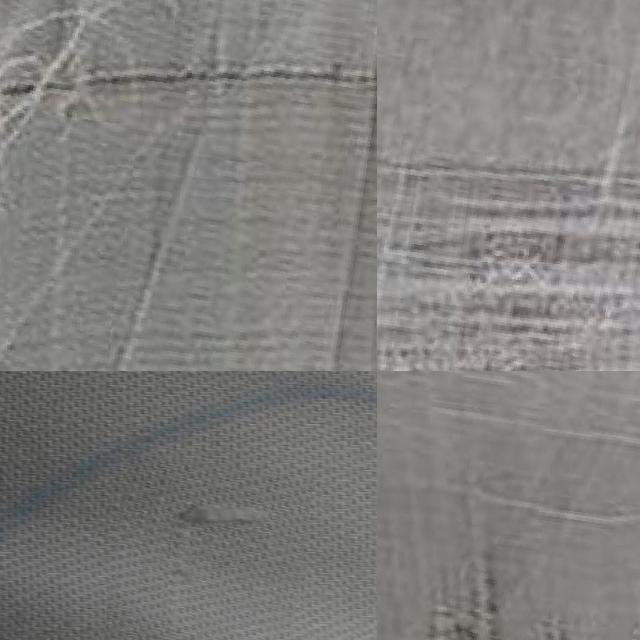stains: (377, 0, 640, 371), (377, 371, 640, 640), (94, 457, 302, 640)
